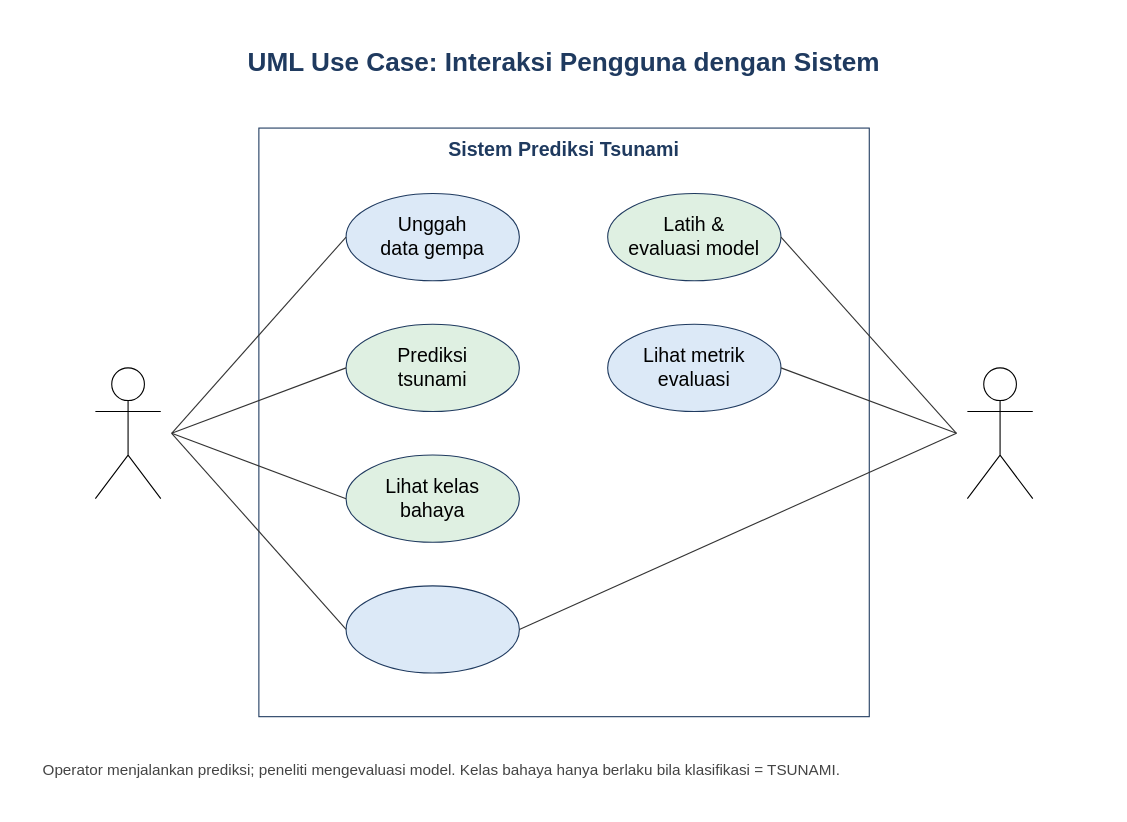
The diagram is 1127 pixels wide and 822 high, and some of its shapes have lost their labels. The shapes that lost their labels are listed below. From the top down, each one's box as (x1, y1, x2, y2) in pixels, then its label:
(94, 367, 161, 499): Operator BMKG
(966, 367, 1033, 499): Peneliti
(345, 585, 519, 673): Lihat peta tsunami historis
